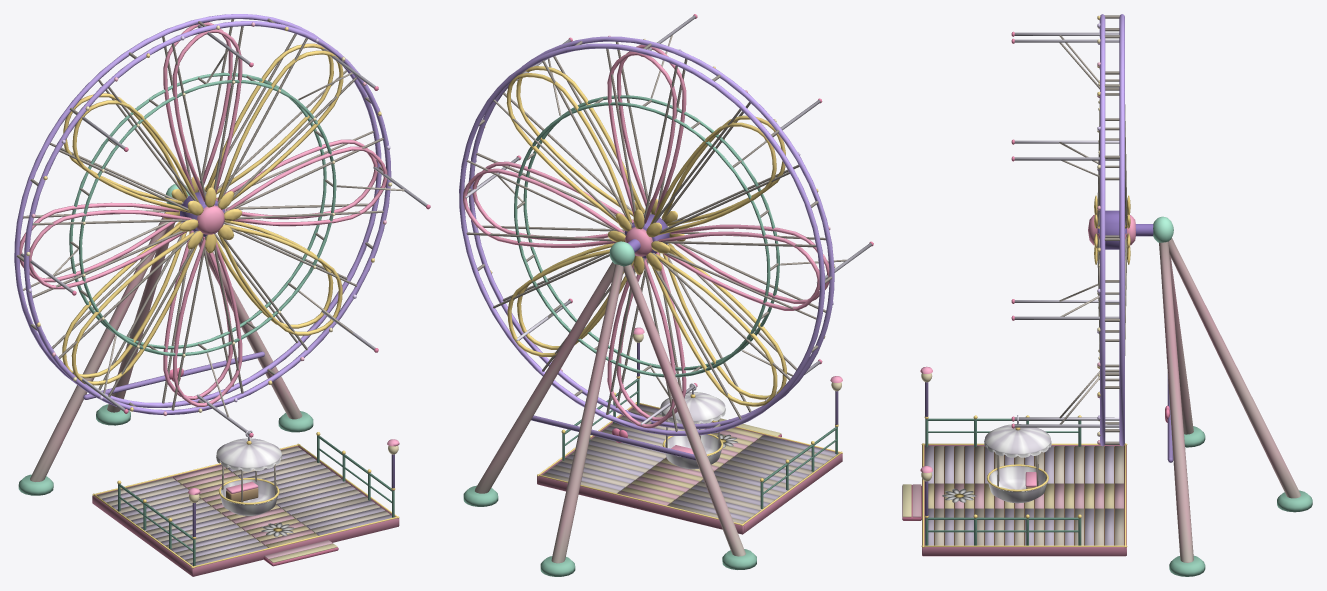
The model's file is act_ferris_wheel.glb.
3 renders of one model, left to right at view 1: azimuth 30°, elevation 25°; view 2: azimuth 150°, elevation 25°; view 3: azimuth 270°, elevation 25°, orthographic. The views are drawn at different scales.
Parts seen in each view (by area): view 1: SM_act_ferris_wheel_wheel_gloss, SM_act_ferris_wheel_wheel, SM_act_ferris_wheel_base_deck, SM_act_ferris_wheel_base, SM_act_ferris_wheel_gondola_tint_cab, SM_act_ferris_wheel_base_gloss, SM_act_ferris_wheel_wheel_bulb, SM_act_ferris_wheel_gondola_gloss; view 2: SM_act_ferris_wheel_wheel_gloss, SM_act_ferris_wheel_wheel, SM_act_ferris_wheel_base_deck, SM_act_ferris_wheel_base, SM_act_ferris_wheel_gondola_tint_cab, SM_act_ferris_wheel_base_gloss; view 3: SM_act_ferris_wheel_base_deck, SM_act_ferris_wheel_base, SM_act_ferris_wheel_wheel_gloss, SM_act_ferris_wheel_wheel, SM_act_ferris_wheel_gondola_tint_cab, SM_act_ferris_wheel_base_gloss, SM_act_ferris_wheel_gondola_gloss.
Part boxes in pixels (<box>): SM_act_ferris_wheel_wheel_gloss: <box>14,14,430,437</box>; SM_act_ferris_wheel_wheel: <box>16,18,404,417</box>; SM_act_ferris_wheel_base_deck: <box>92,445,399,576</box>; SM_act_ferris_wheel_base: <box>18,212,394,566</box>; SM_act_ferris_wheel_gondola_tint_cab: <box>216,438,282,515</box>; SM_act_ferris_wheel_base_gloss: <box>92,184,399,568</box>; SM_act_ferris_wheel_wheel_bulb: <box>26,22,391,415</box>; SM_act_ferris_wheel_gondola_gloss: <box>218,430,279,504</box>; SM_act_ferris_wheel_wheel_gloss: <box>459,14,873,435</box>; SM_act_ferris_wheel_wheel: <box>466,35,846,431</box>; SM_act_ferris_wheel_base_deck: <box>537,404,842,534</box>; SM_act_ferris_wheel_base: <box>463,262,838,576</box>; SM_act_ferris_wheel_gondola_tint_cab: <box>660,392,725,469</box>; SM_act_ferris_wheel_base_gloss: <box>537,239,842,525</box>; SM_act_ferris_wheel_base_deck: <box>902,445,1126,556</box>; SM_act_ferris_wheel_base: <box>925,238,1312,576</box>; SM_act_ferris_wheel_wheel_gloss: <box>1011,14,1135,446</box>; SM_act_ferris_wheel_wheel: <box>1059,15,1127,444</box>; SM_act_ferris_wheel_gondola_tint_cab: <box>984,424,1051,503</box>; SM_act_ferris_wheel_base_gloss: <box>920,216,1173,547</box>; SM_act_ferris_wheel_gondola_gloss: <box>987,415,1048,491</box>.
Bounding box in the file's own units: 13.27 × 15.95 × 12.6.
